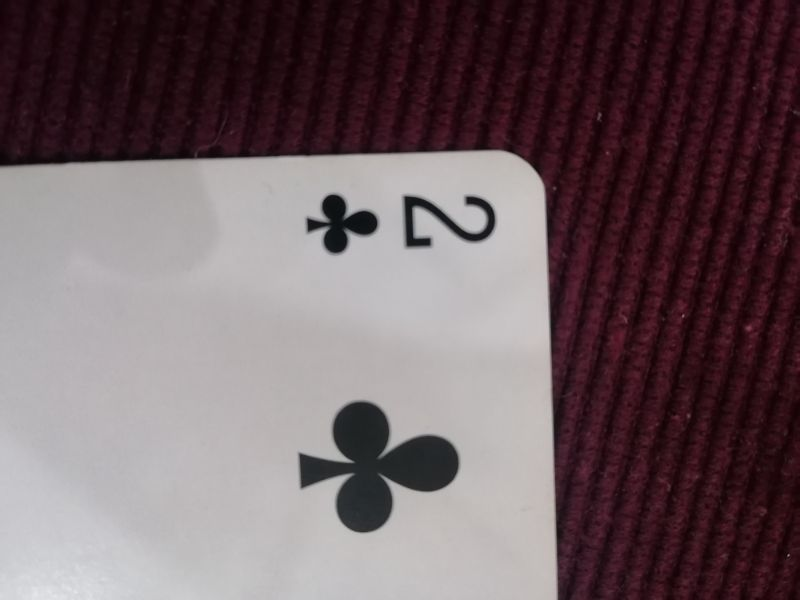2c: (301, 182, 507, 261)
